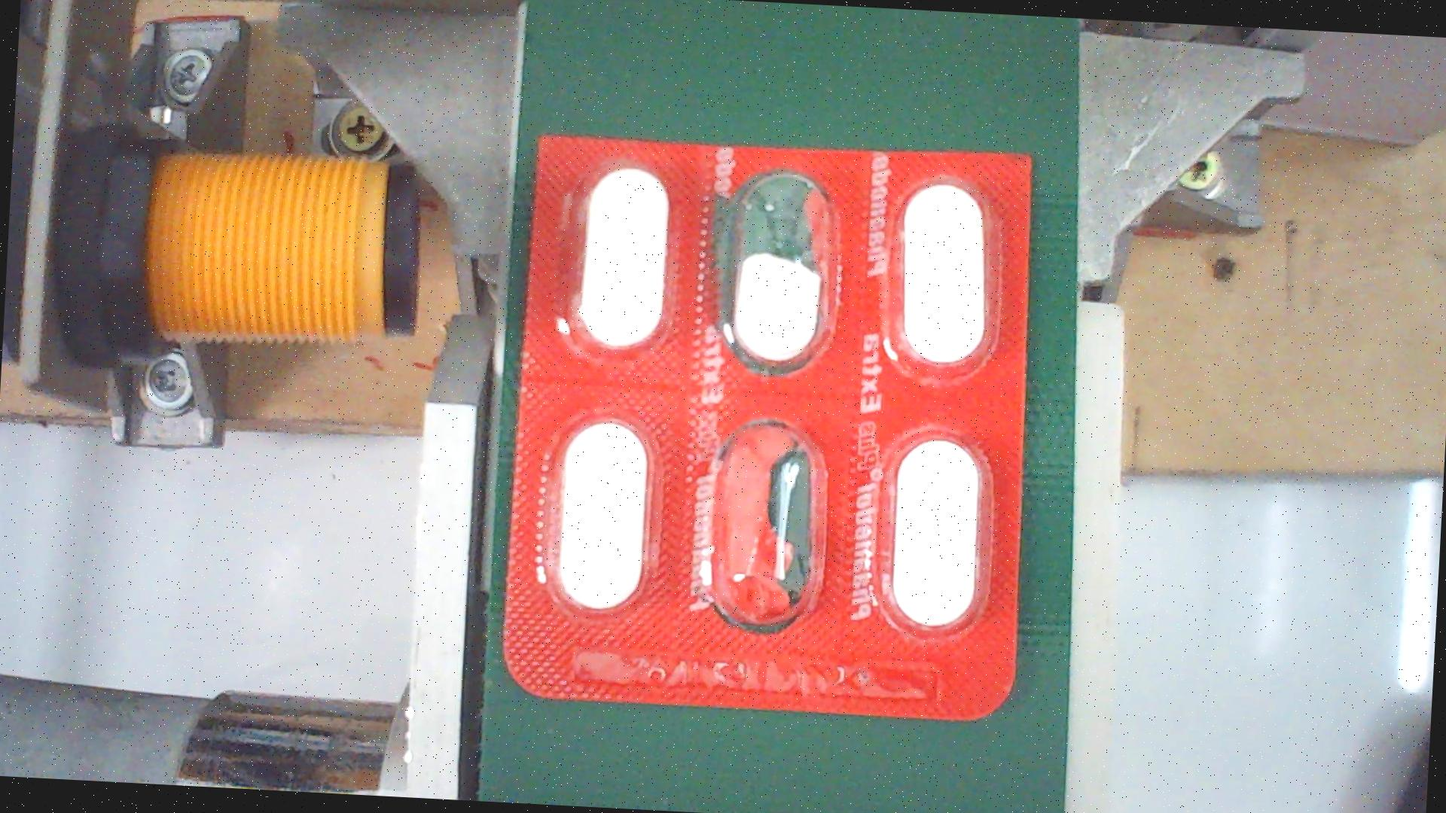Empty: (697, 413, 829, 642)
Full: (877, 164, 1009, 393), (873, 421, 1005, 650), (563, 155, 695, 384), (534, 405, 666, 633)
Partial: (720, 161, 852, 390)
